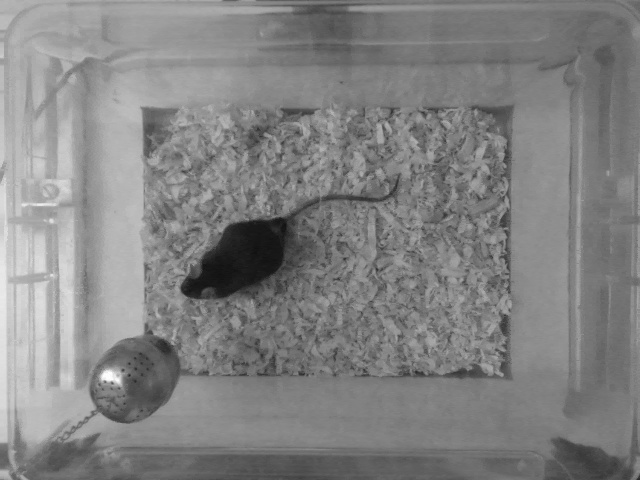mice: (179, 171, 408, 300)
